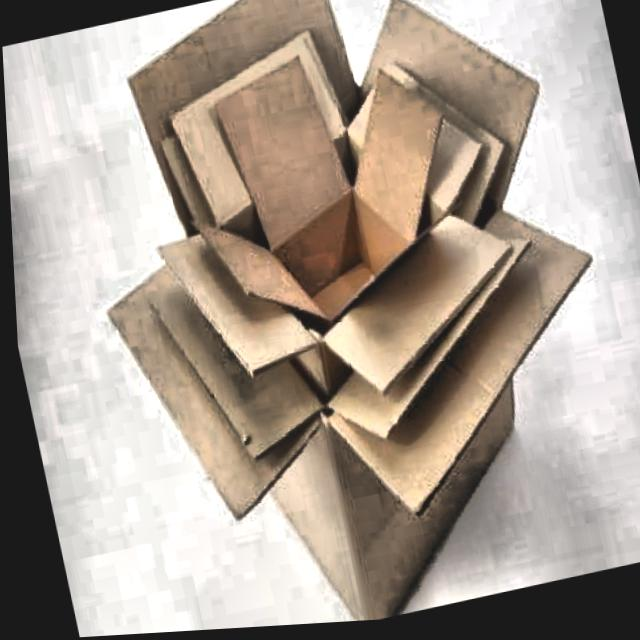Cardbox: (24, 0, 640, 639)
